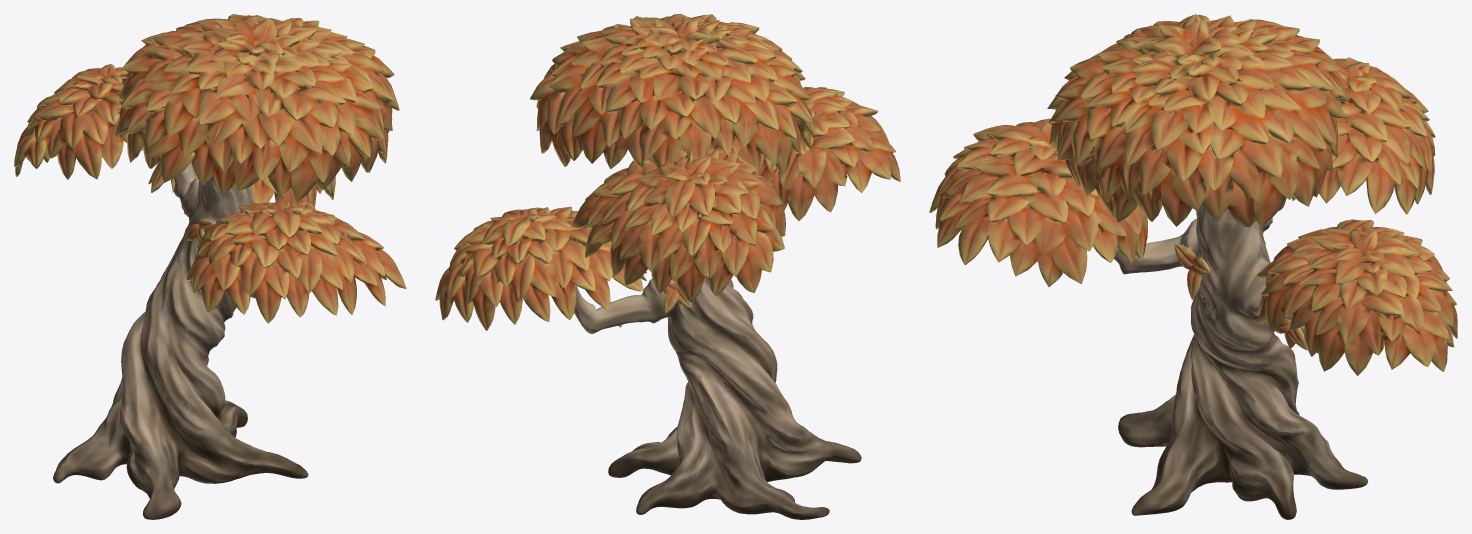
File: SM_yellowTree.fbx
3 renders of one model, left to right at view 1: azimuth 30°, elevation 25°; view 2: azimuth 150°, elevation 25°; view 3: azimuth 270°, elevation 25°, orthographic. The views are drawn at different scales.
Visible parts, largest first — view 1: SM_yellowTree; view 2: SM_yellowTree; view 3: SM_yellowTree.
Boxes of the visible parts, bbox=[...] form: SM_yellowTree: bbox=[14, 14, 406, 519]; SM_yellowTree: bbox=[435, 14, 900, 519]; SM_yellowTree: bbox=[929, 14, 1457, 519].
Bounding box in the file's own units: 482 × 618 × 621.
